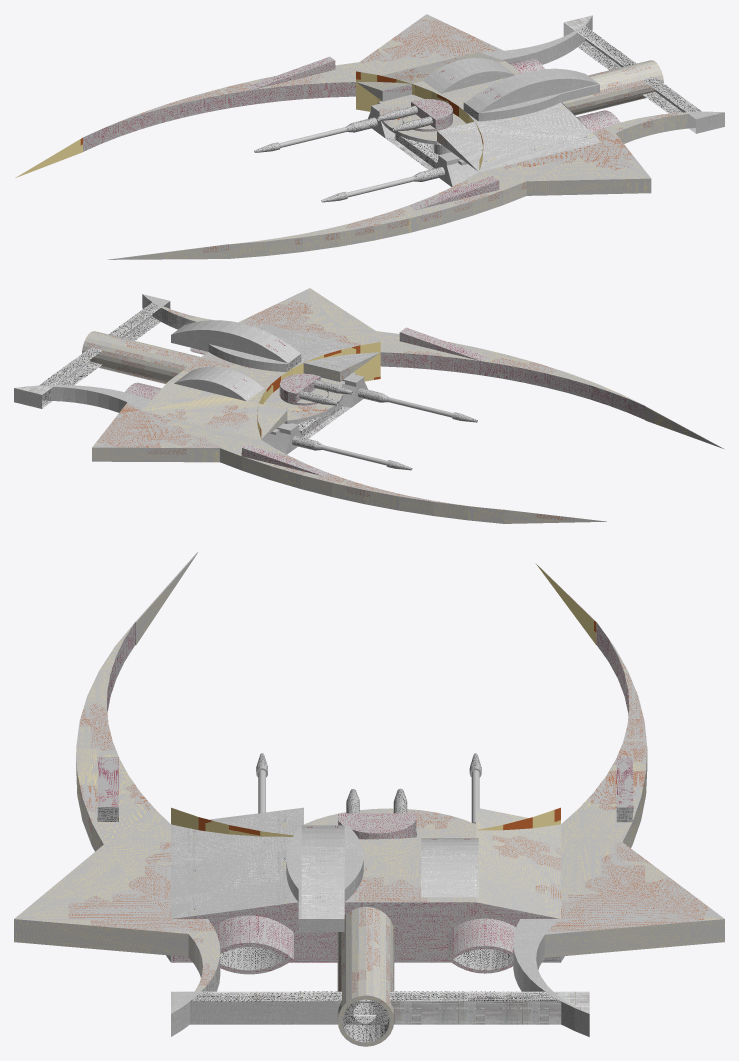
3 views of the same model, one above another, from view 1: azimuth 30°, elevation 25°; view 2: azimuth 150°, elevation 25°; view 3: azimuth 270°, elevation 25° (orthographic). The views are drawn at different scales.
Visible parts, largest first — view 1: mesh1_mesh1-geometry, mesh2_mesh2-geometry; view 2: mesh1_mesh1-geometry, mesh2_mesh2-geometry; view 3: mesh1_mesh1-geometry.
Boxes of the visible parts, x1,y1,x2,y2 form: mesh1_mesh1-geometry: (15,14,724,259); mesh2_mesh2-geometry: (321,152,478,202); mesh1_mesh1-geometry: (14,288,724,523); mesh2_mesh2-geometry: (340,372,477,422); mesh1_mesh1-geometry: (14,552,724,1046).
Bounding box in the file's own units: 0.8387 × 0.0954 × 0.5361.
